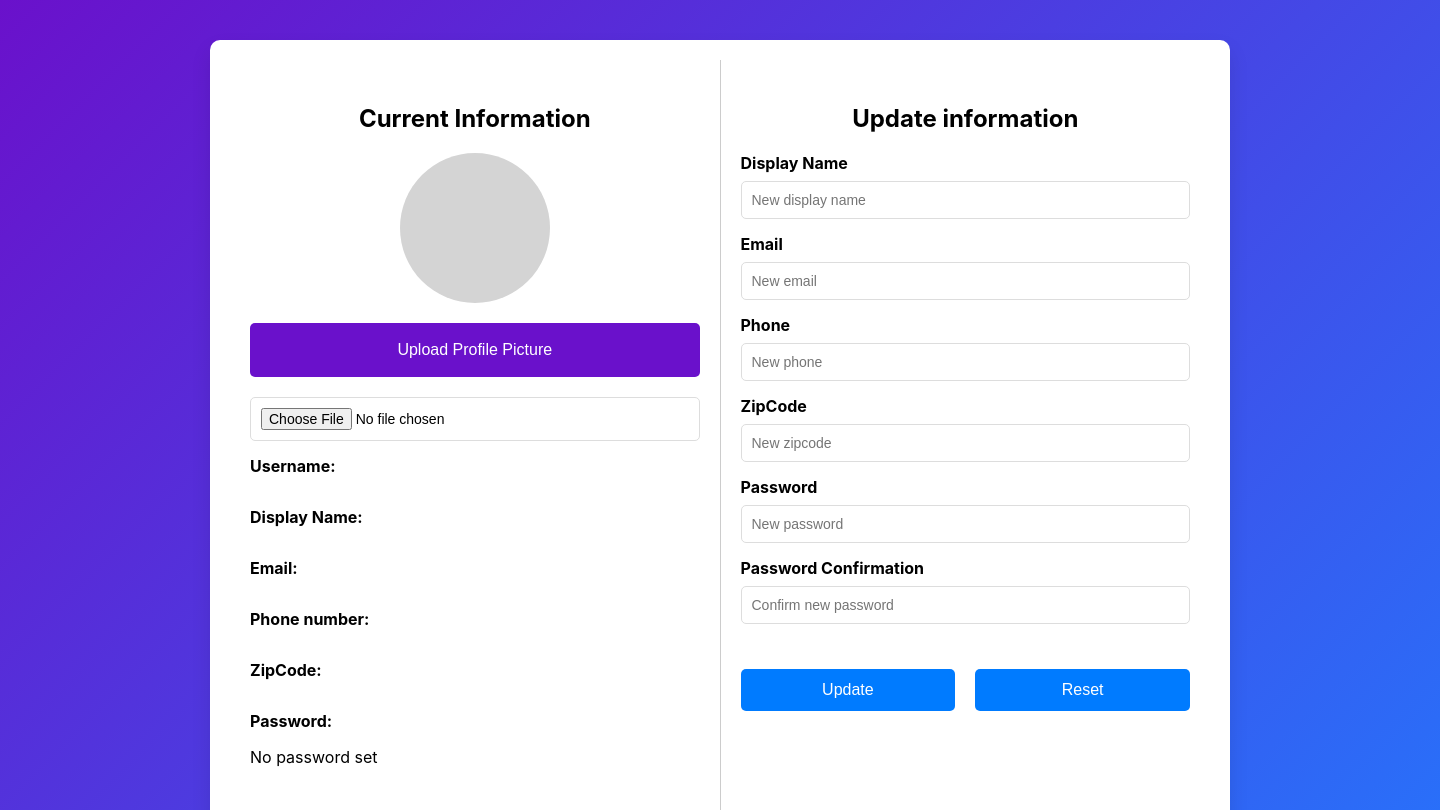
Profile Page Tests › should display validation errors for invalid email and phone
The image size is (1440, 810).
Type "invalid-email" into the field with placeholder "New email" at (965, 281), box [740,262,1190,300]
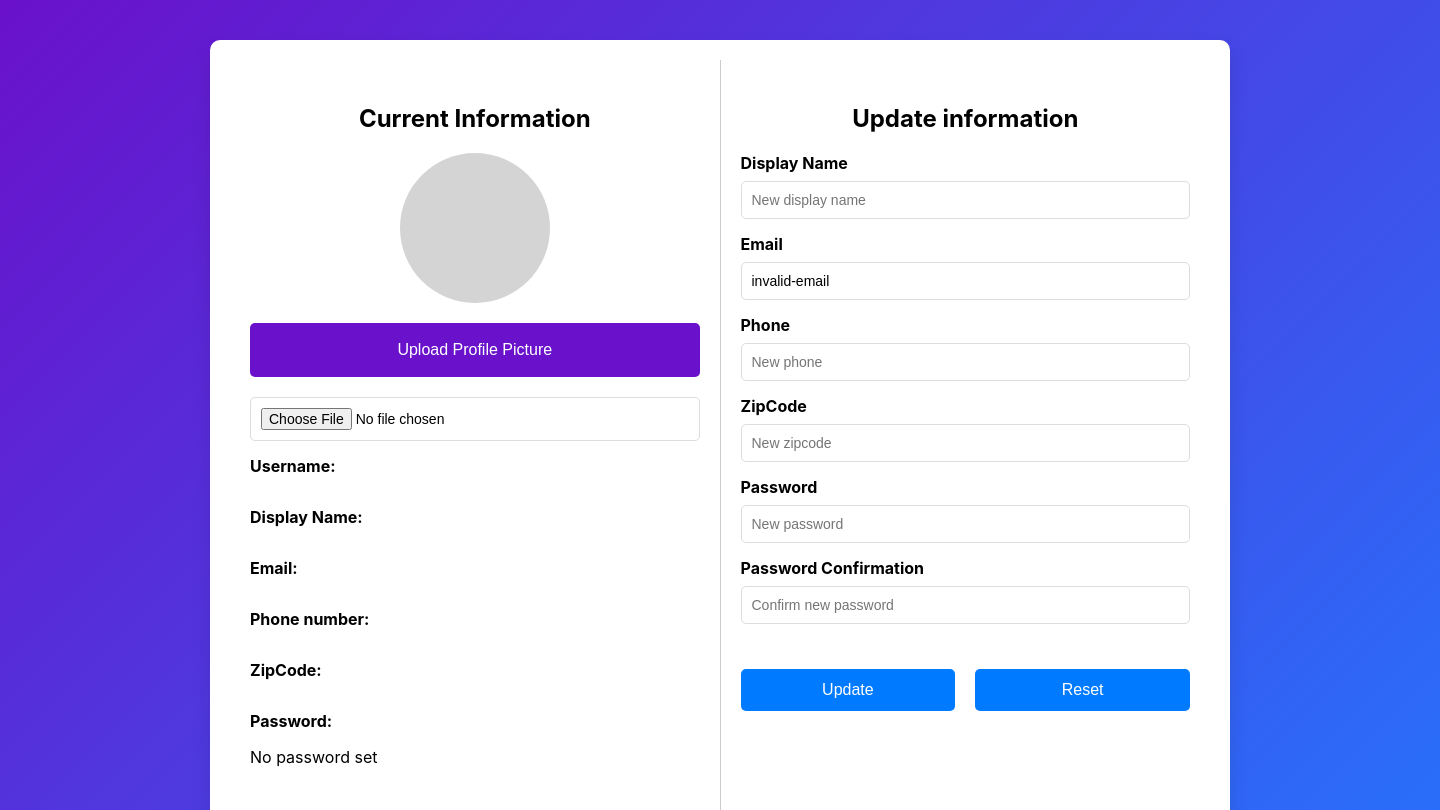
Type "invalid-phone" into the field with placeholder "New phone" at (965, 362), box [740,343,1190,381]
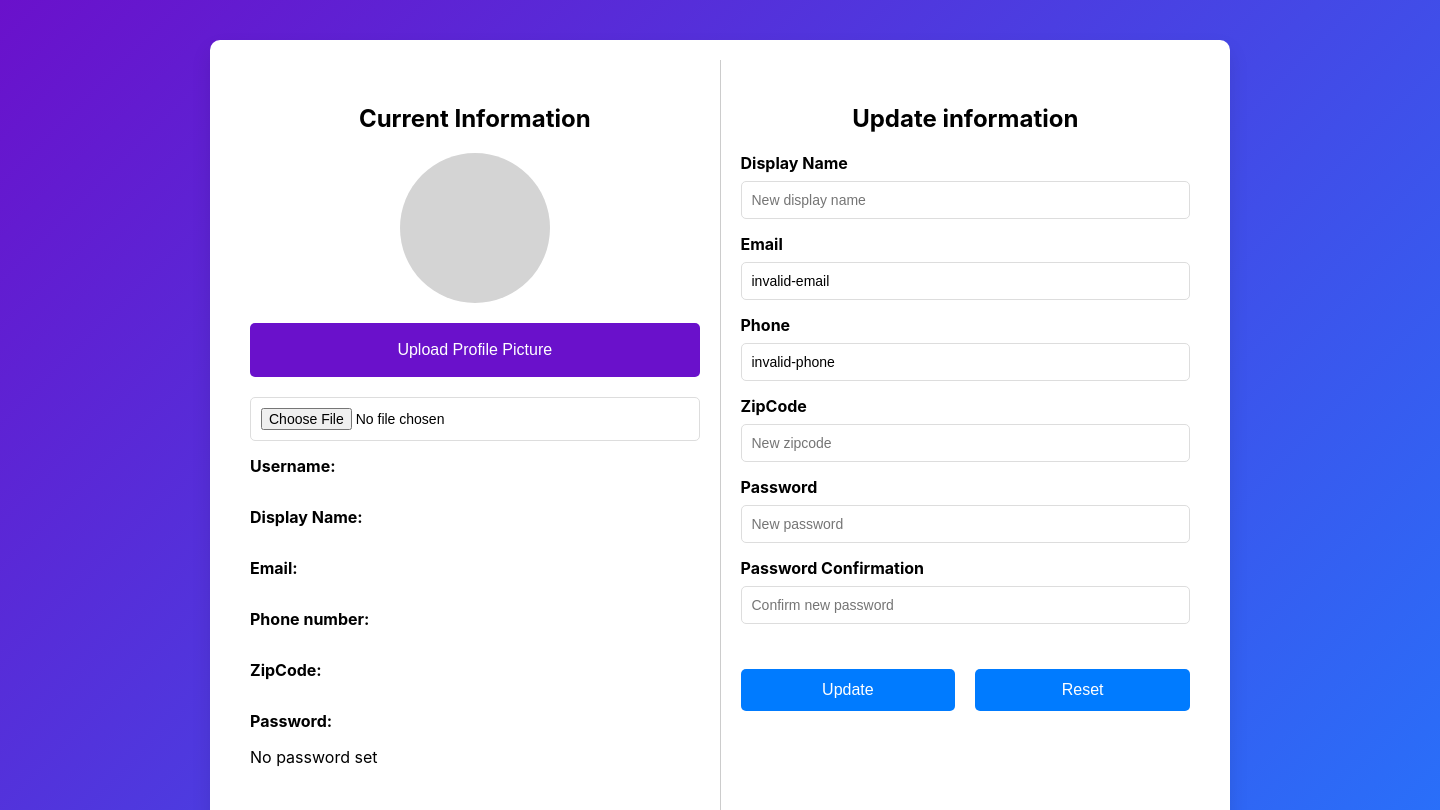
Click the button "Update" at (848, 690), box [740,669,955,711]
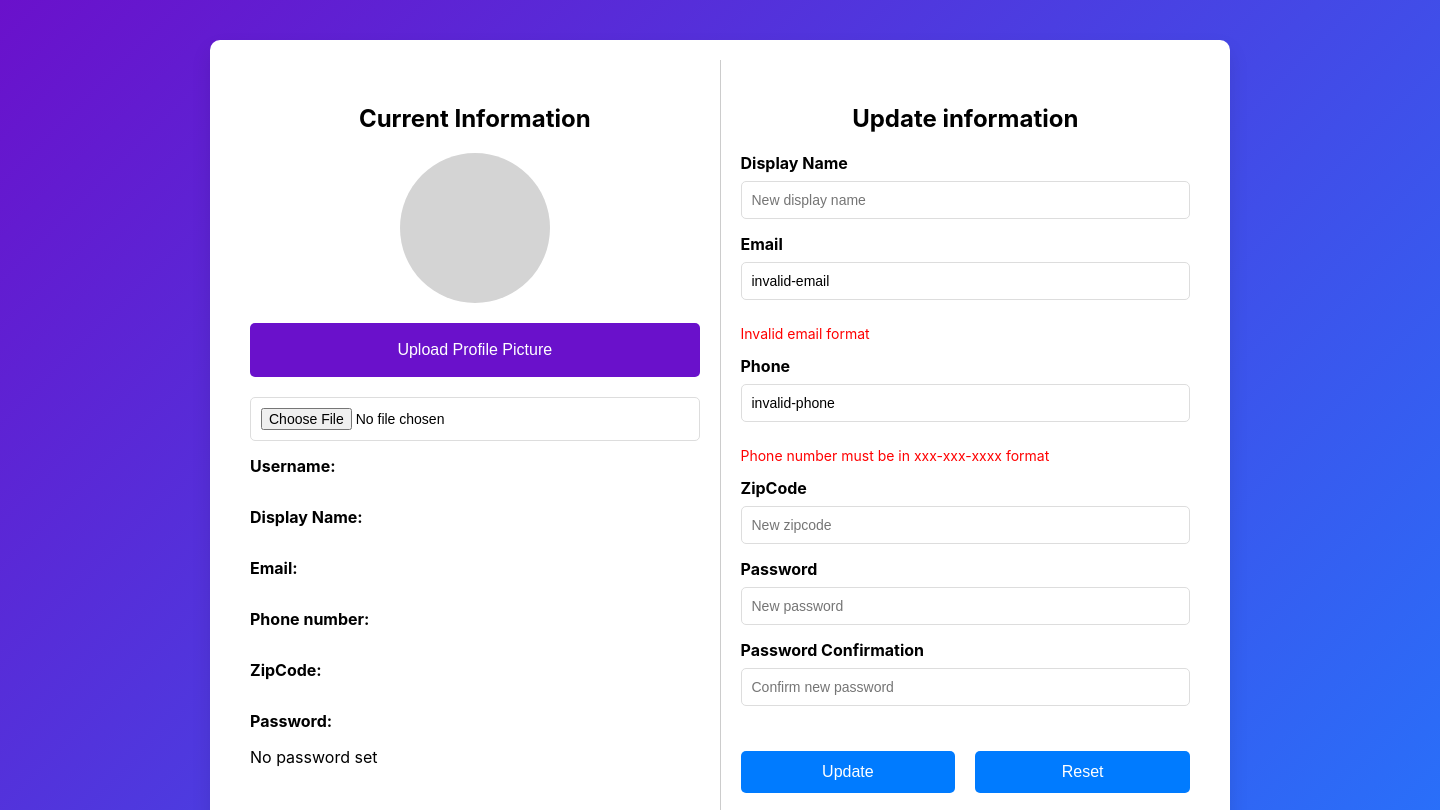
Now the text "Invalid email format" is shown, box [740,325,870,342]
Now the text "Phone number must be in xxx-xxx-xxxx format" is shown, box [740,447,1049,464]
